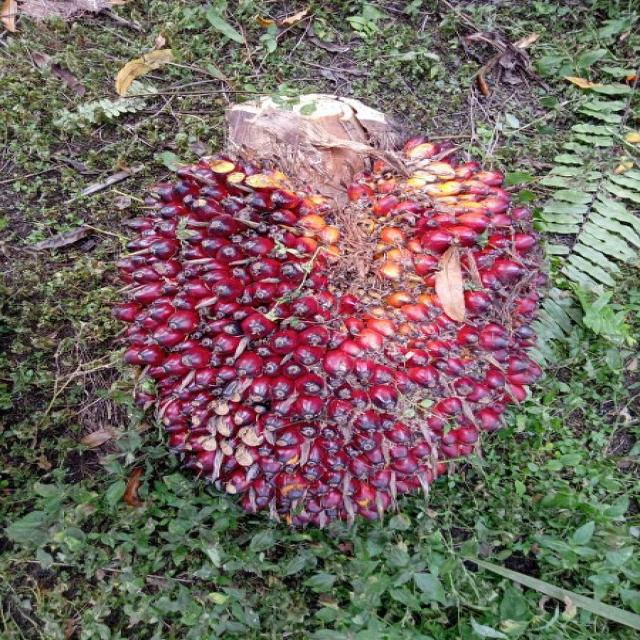fraksi 1: (37, 61, 628, 560)
